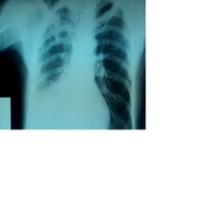tuberculosis: (27, 0, 140, 128)
